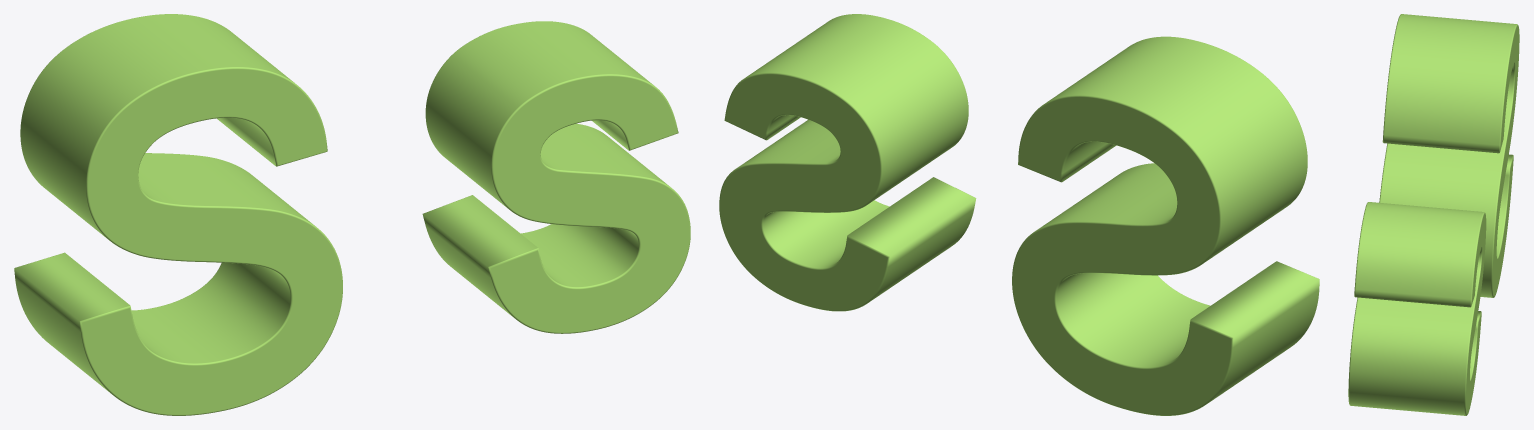
3 renders of one model, left to right at view 1: azimuth 30°, elevation 25°; view 2: azimuth 150°, elevation 25°; view 3: azimuth 270°, elevation 25°, orthographic. The views are drawn at different scales.
Visible parts, largest first — view 1: Text; view 2: Text; view 3: Text.
Part boxes in pixels (bbox=[...]): Text: bbox=[14, 14, 690, 415]; Text: bbox=[719, 14, 1319, 415]; Text: bbox=[1348, 14, 1519, 415].
Bounding box in the file's own units: 261 × 144 × 88.93.
